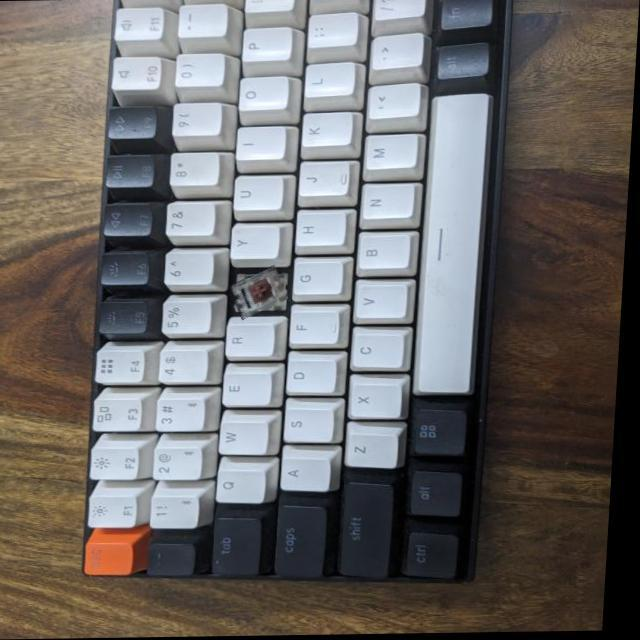key-switch: (233, 269, 291, 316)
